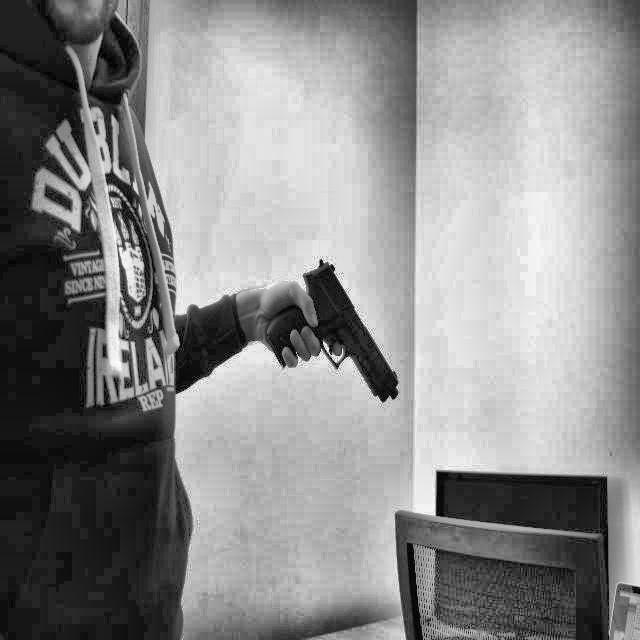pistol: (249, 244, 418, 414)
